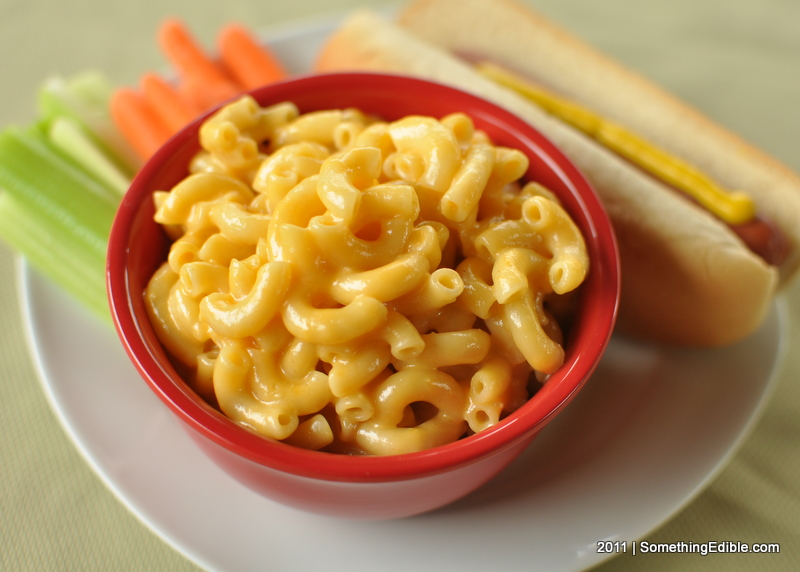macncheese: (141, 94, 587, 454)
